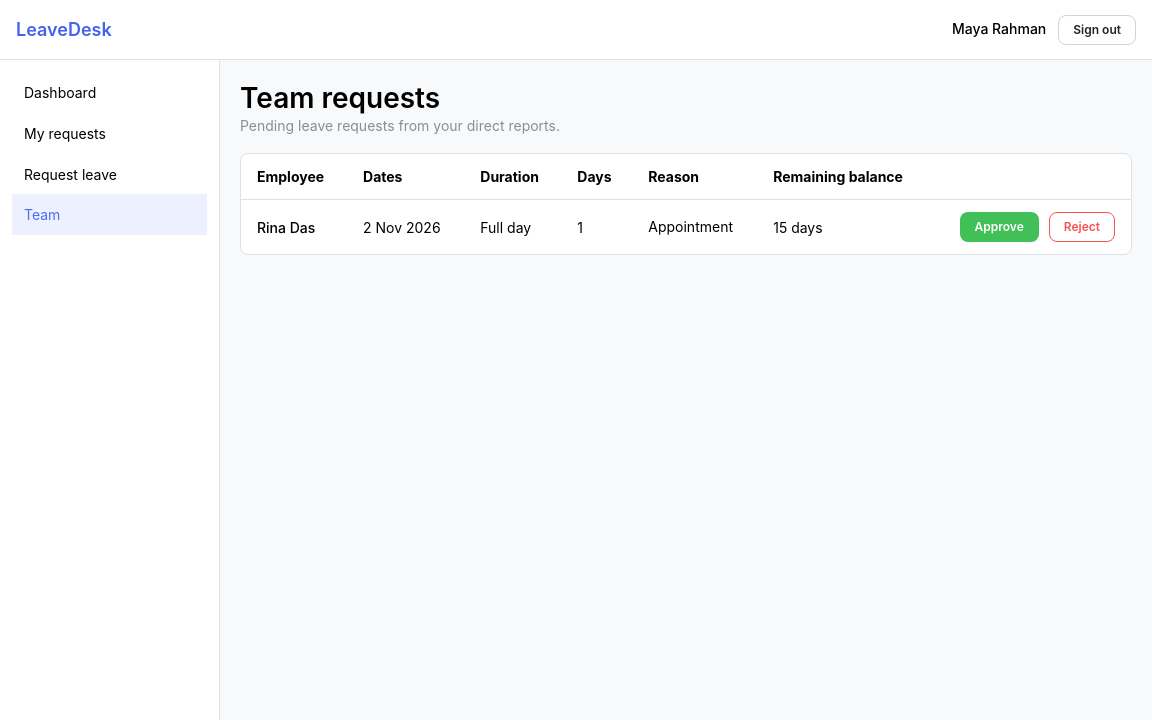
Test: dialogs accessibility › reject dialog has no axe violations and a labelled comment field
The width and height of the screenshot is (1152, 720).
Click the button with aria-label "reject request from".
click(1082, 227)  # box [1049,212,1115,242]
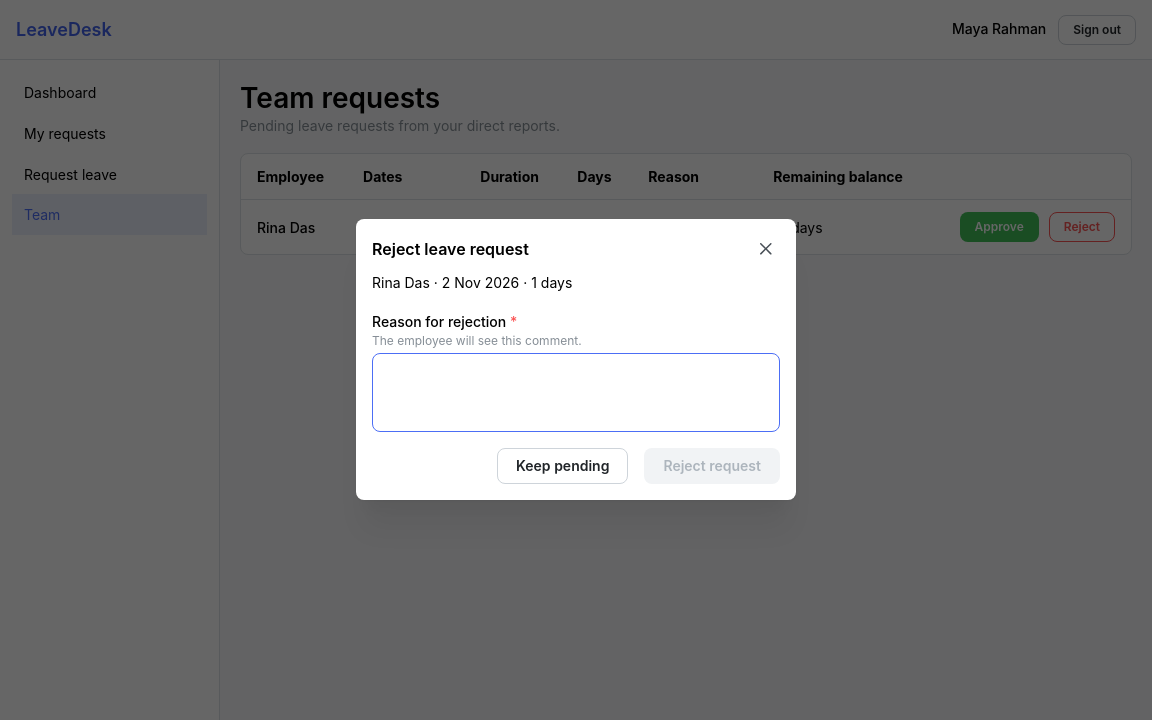
Check: the text box labelled "Reason for rejection *" is shown, box [372,354,780,433]
